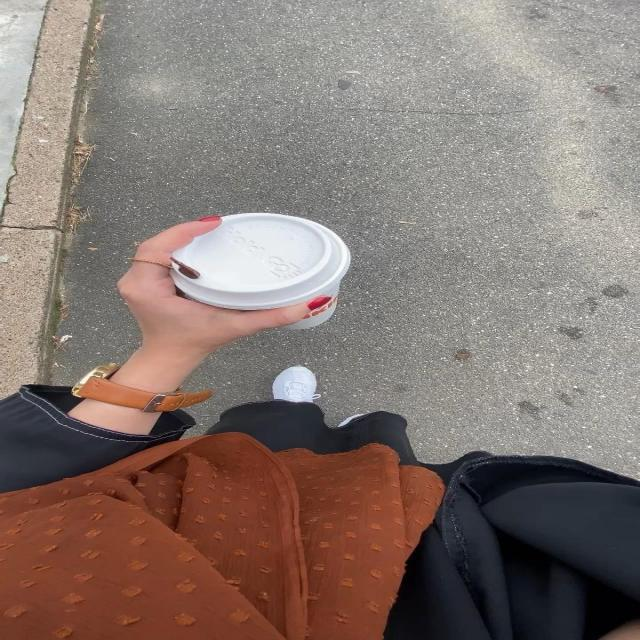cup-disposable: (157, 212, 355, 332)
